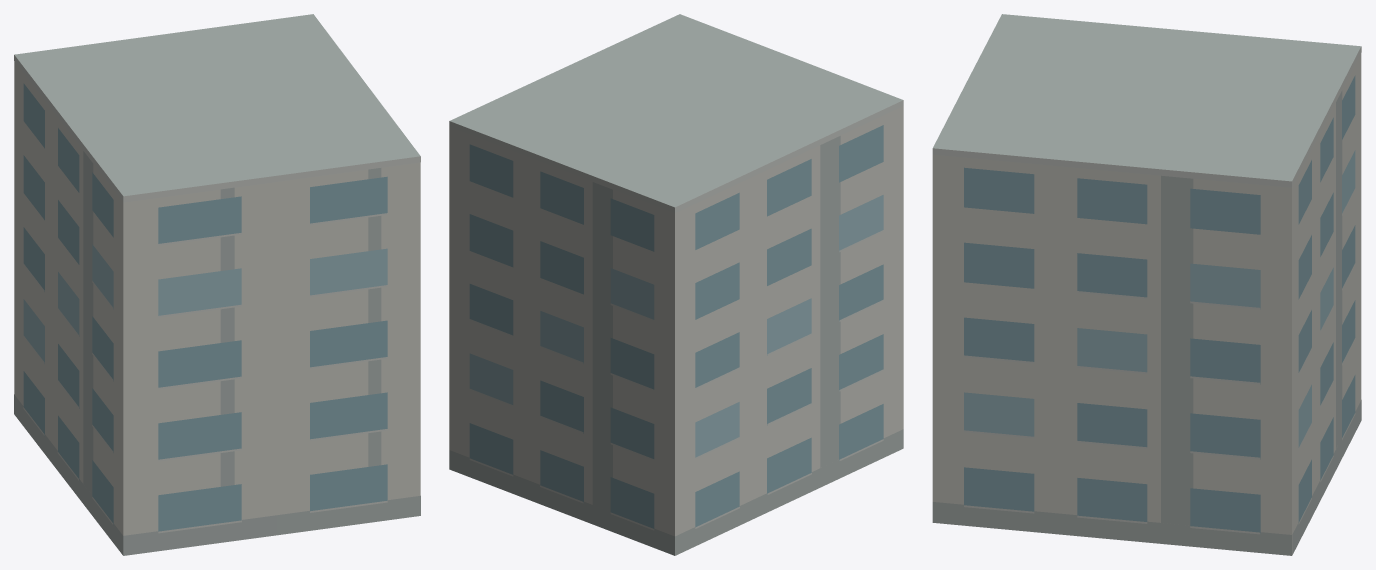
File: survey-upis-33017828.glb
3 views of the same model, side by side, from view 1: azimuth 30°, elevation 25°; view 2: azimuth 150°, elevation 25°; view 3: azimuth 270°, elevation 25° (orthographic). The views are drawn at different scales.
Visible parts, largest first — view 1: survey-upis-33017828.tmp; view 2: survey-upis-33017828.tmp; view 3: survey-upis-33017828.tmp.
Part boxes in pixels (box(x1,y1,x2,y2)): survey-upis-33017828.tmp: box(14, 14, 420, 555); survey-upis-33017828.tmp: box(449, 14, 903, 555); survey-upis-33017828.tmp: box(932, 14, 1361, 555).
Size of the model in its own units: 13.62 by 14.2 by 14.74.
